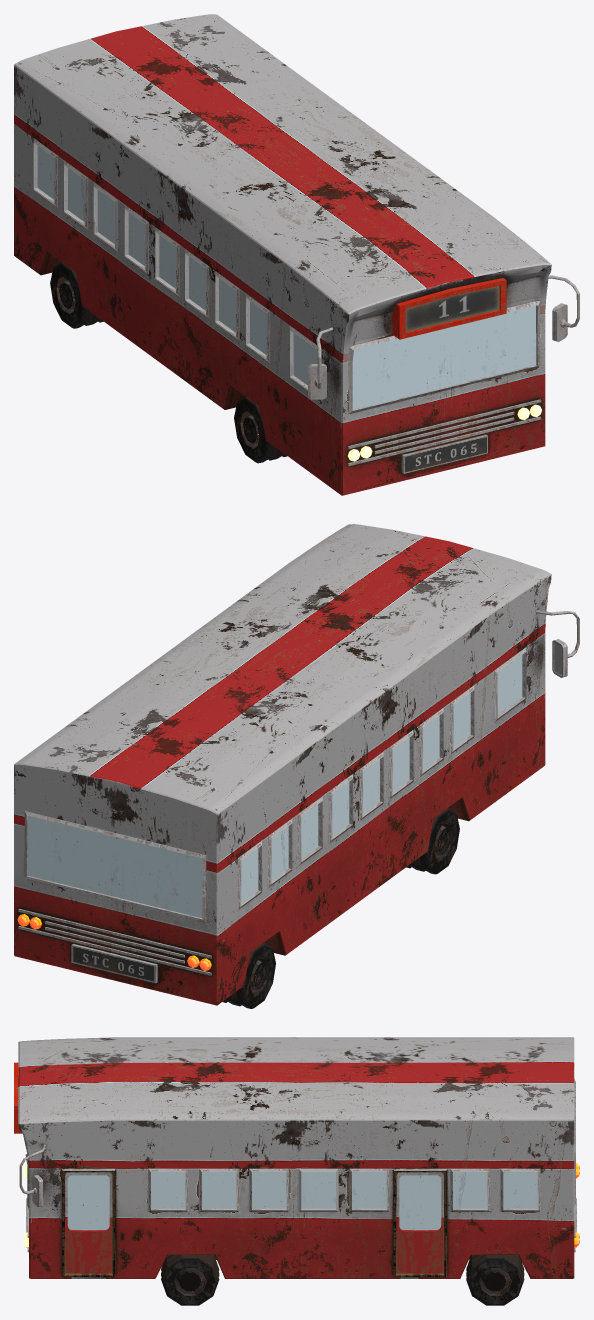
The model's file is Bus_Model_Textured.fbx.
3 views of the same model, one above another, from view 1: azimuth 30°, elevation 25°; view 2: azimuth 150°, elevation 25°; view 3: azimuth 270°, elevation 25° (orthographic). The views are drawn at different scales.
Visible parts, largest first — view 1: Exterior, Window, frame1 (×8), bus_name, bus_sign, wheel4, wheel, license_plate, side_mirror (×2), windshield_rim, grill1, grill4; view 2: Exterior, Window, frame1 (×8), backwindow_rim, wheel, wheel4, license_plate, grill4, grill1, side_mirror; view 3: Exterior, Window, Front_door, Back_door, frame1 (×7), wheel4, wheel, side_mirror, bus_sign.
Boxes of the visible parts, left/top/right/bottom form: Exterior: left=14, top=14, right=551, bottom=495; Window: left=37, top=146, right=536, bottom=409; frame1 (×8): left=33, top=138, right=270, bottom=362; bus_name: left=405, top=286, right=499, bottom=332; bus_sign: left=390, top=278, right=506, bottom=339; wheel4: left=50, top=262, right=103, bottom=328; wheel: left=234, top=396, right=287, bottom=463; license_plate: left=401, top=434, right=487, bottom=473; side_mirror (×2): left=308, top=275, right=579, bottom=399; windshield_rim: left=348, top=301, right=540, bottom=413; grill1: left=348, top=416, right=541, bottom=466; grill4: left=348, top=399, right=541, bottom=448; Exterior: left=14, top=524, right=551, bottom=1005; Window: left=28, top=655, right=522, bottom=917; frame1 (×8): left=237, top=647, right=526, bottom=909; backwindow_rim: left=24, top=811, right=206, bottom=922; wheel: left=406, top=808, right=459, bottom=874; wheel4: left=222, top=942, right=275, bottom=1008; license_plate: left=71, top=943, right=157, bottom=983; grill4: left=18, top=909, right=211, bottom=958; grill1: left=18, top=926, right=211, bottom=975; side_mirror: left=536, top=610, right=579, bottom=677; Exterior: left=18, top=1037, right=574, bottom=1278; Window: left=151, top=1172, right=537, bottom=1208; Front_door: left=62, top=1168, right=115, bottom=1276; Back_door: left=393, top=1168, right=446, bottom=1276; frame1 (×7): left=148, top=1168, right=540, bottom=1211; wheel4: left=466, top=1255, right=524, bottom=1305; wheel: left=161, top=1255, right=219, bottom=1305; side_mirror: left=19, top=1144, right=45, bottom=1206; bus_sign: left=14, top=1062, right=21, bottom=1133.
Bounding box in the file's own units: 432 × 372 × 975.
